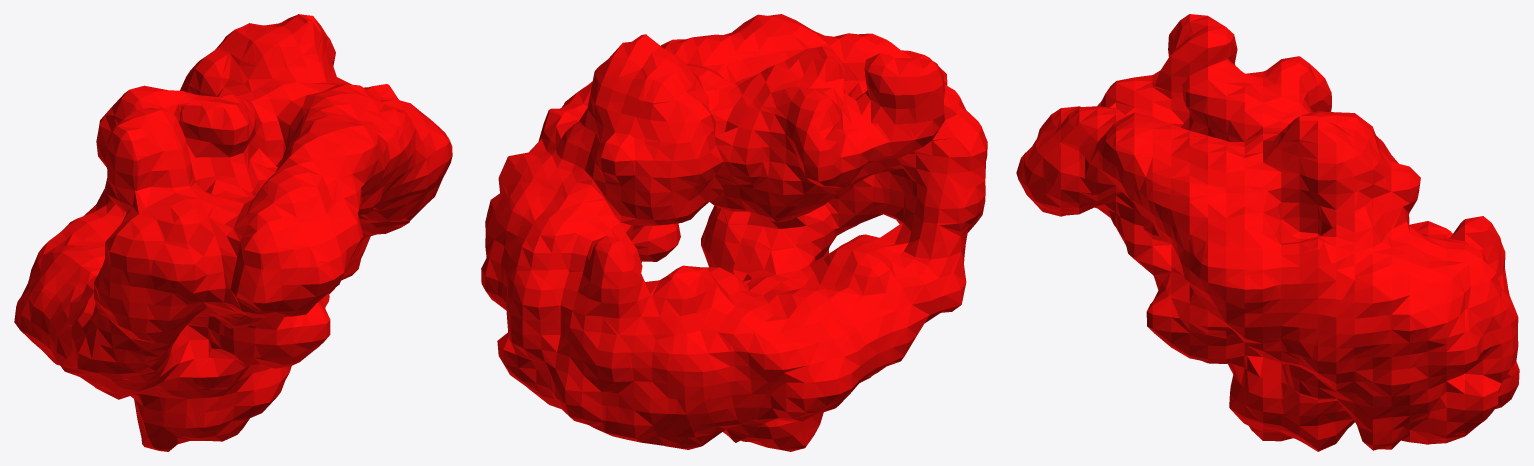
Rendered from mutS_coarse.dae.
3 renders of one model, left to right at view 1: azimuth 30°, elevation 25°; view 2: azimuth 150°, elevation 25°; view 3: azimuth 270°, elevation 25°, orthographic. The views are drawn at different scales.
Parts seen in each view (by area): view 1: mutS; view 2: mutS; view 3: mutS.
Boxes of the visible parts, bbox=[...] form: mutS: bbox=[14, 14, 452, 451]; mutS: bbox=[481, 14, 987, 451]; mutS: bbox=[1016, 14, 1519, 451].
Bounding box in the file's own units: 104 × 100 × 120.
